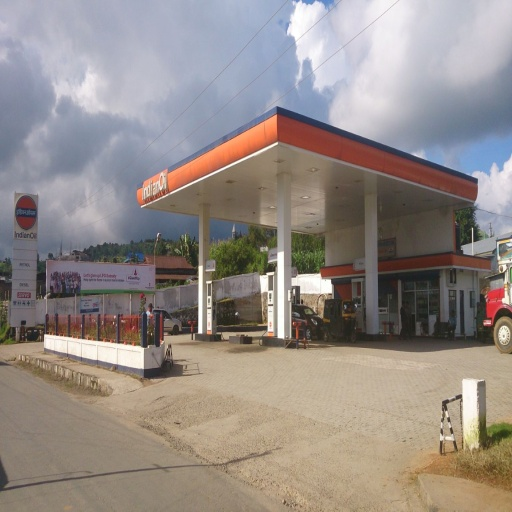roof: (135, 106, 479, 238)
